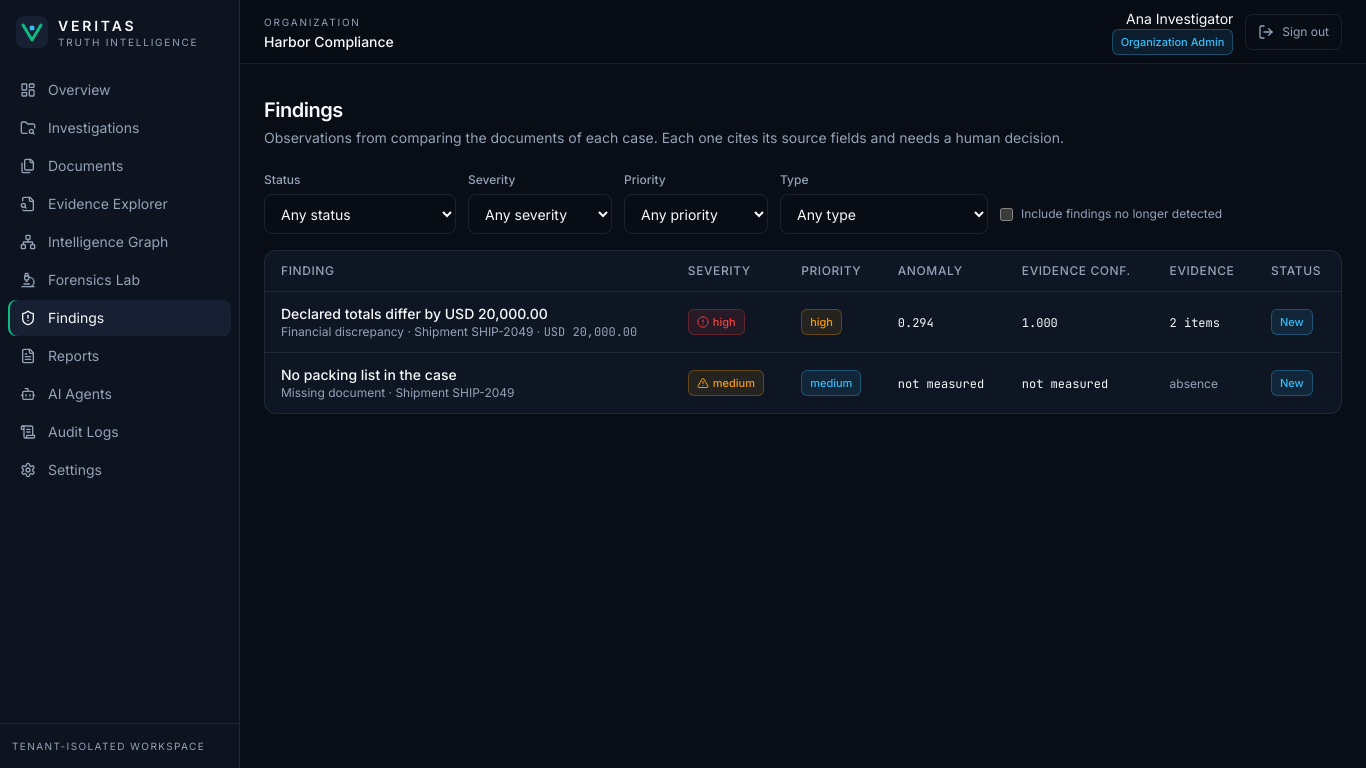
Scenario: the Findings Center lists findings with three separate scores and filters by type
expect the text "0.294" is shown: met, box 898,315 -> 934,331
expect the text "1.000" is shown: met, box 1022,315 -> 1058,331
Step 1. Select "Missing document" in the dropdown labelled "Type" → (884, 214), box 780,194 -> 988,234
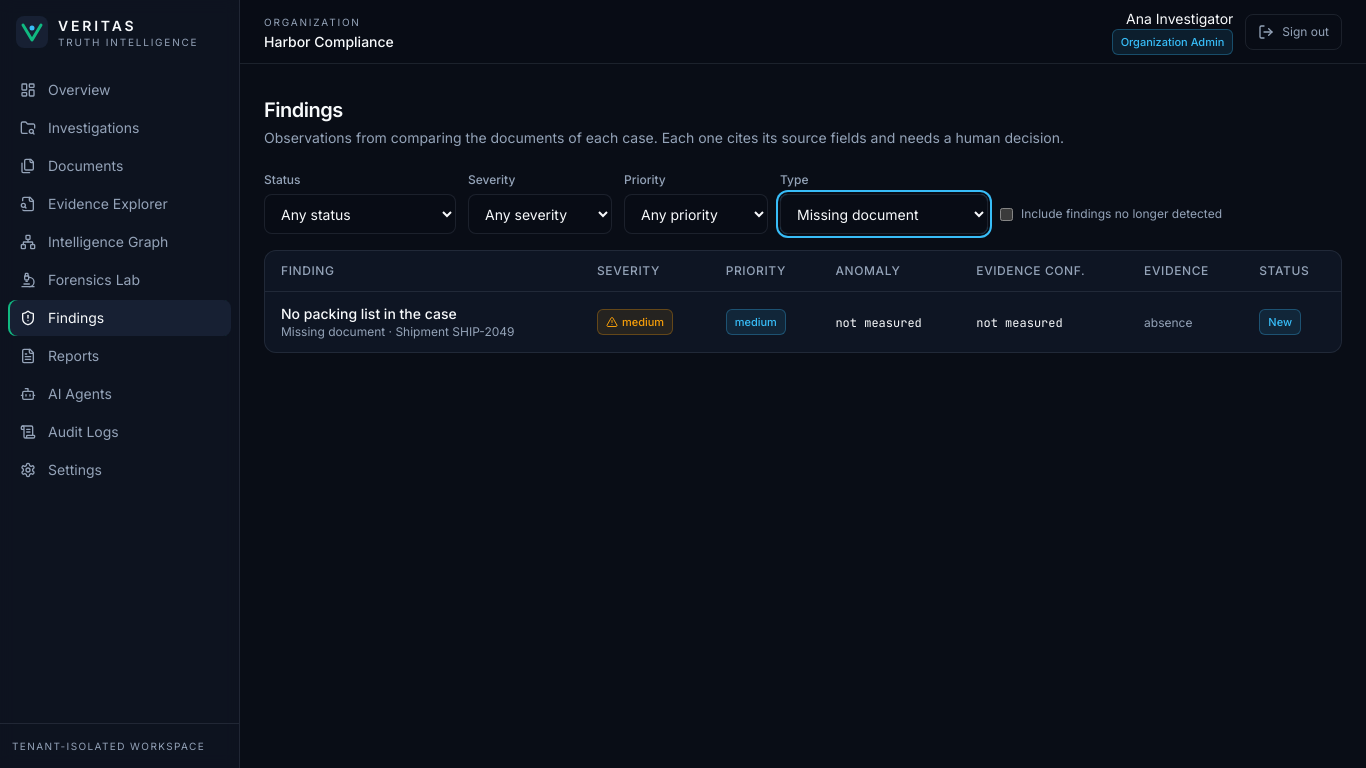
expect the link "Declared totals differ by USD 20,000.00" is gone: met
